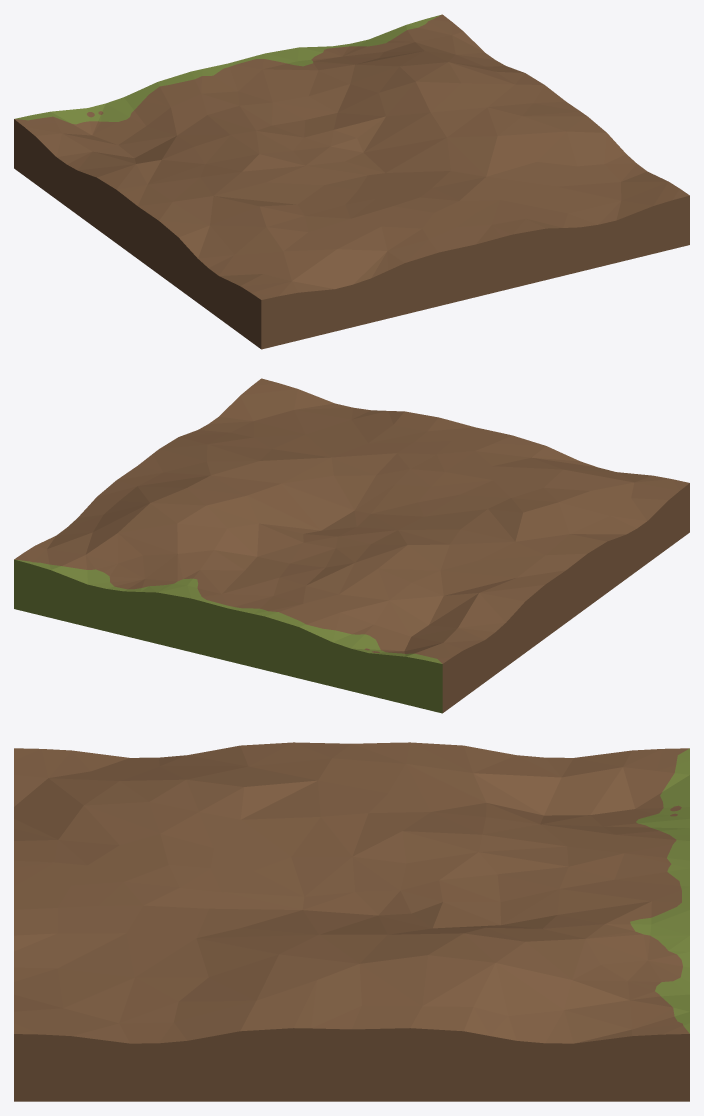
The model's file is Terrian_DirtGrass_Flat-05.fbx.
3 views of the same model, one above another, from view 1: azimuth 30°, elevation 25°; view 2: azimuth 150°, elevation 25°; view 3: azimuth 270°, elevation 25° (orthographic). The views are drawn at different scales.
Visible parts, largest first — view 1: Terrian_DirtGrass_Flat-05; view 2: Terrian_DirtGrass_Flat-05; view 3: Terrian_DirtGrass_Flat-05.
Part boxes in pixels (x1,y1,x2,y2): Terrian_DirtGrass_Flat-05: (14,14,689,349); Terrian_DirtGrass_Flat-05: (14,378,689,713); Terrian_DirtGrass_Flat-05: (14,742,689,1101).
Size of the model in its own units: 3600 by 560 by 3600.
Materials: 1 (1 with a texture image).
